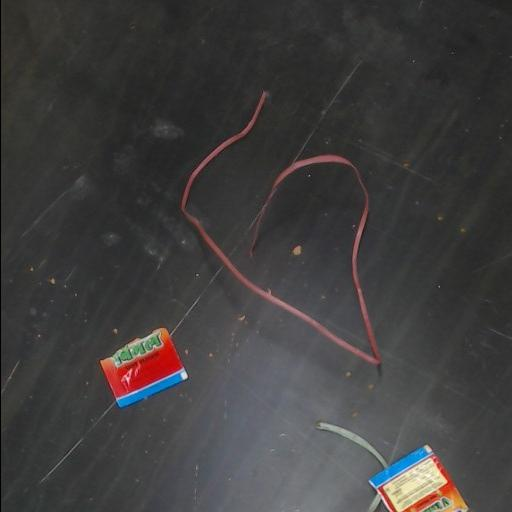conveyor belt: (1, 0, 512, 511)
packet: (100, 328, 186, 406), (369, 446, 466, 511)
thread: (180, 91, 380, 375), (316, 421, 385, 466)
